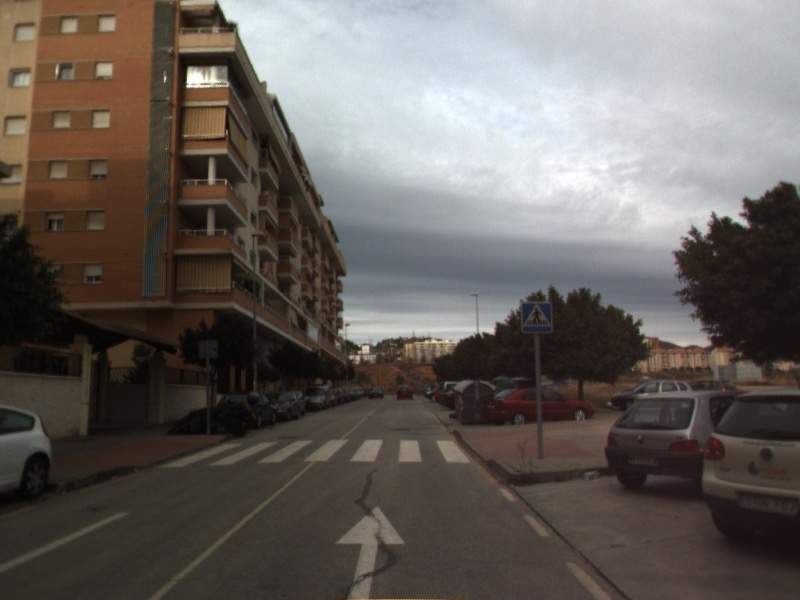STRAIGHT: (332, 503, 407, 600)
